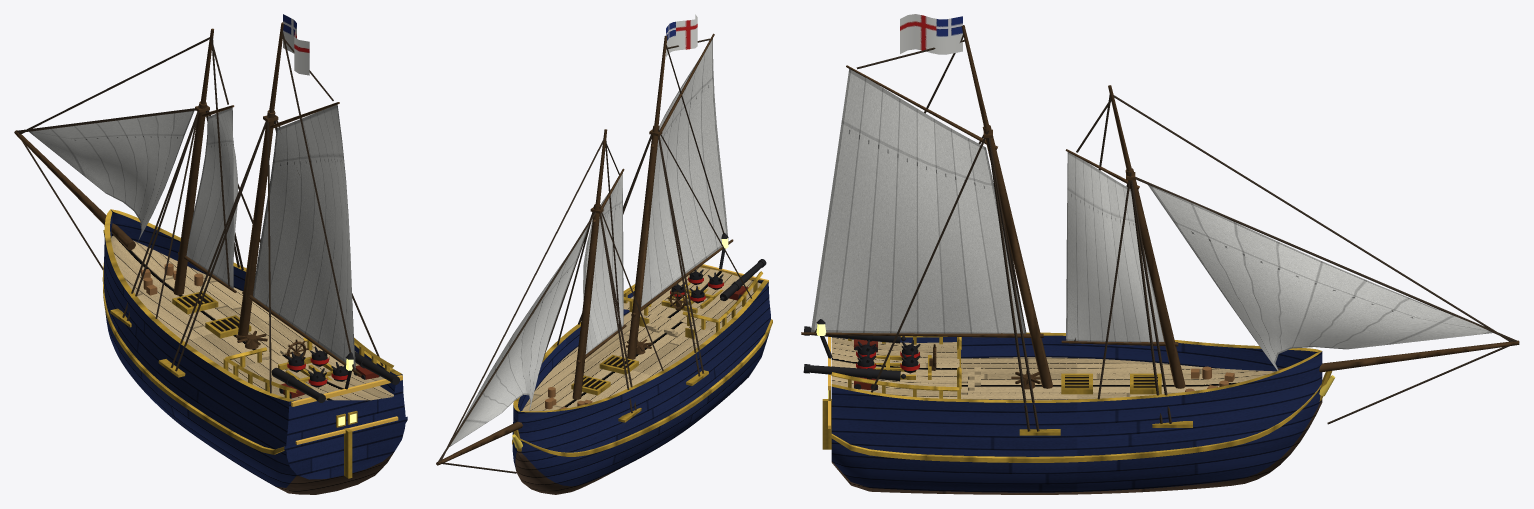
The model's file is navy_runner.glb.
3 views of the same model, side by side, from view 1: azimuth 30°, elevation 25°; view 2: azimuth 150°, elevation 25°; view 3: azimuth 270°, elevation 25° (orthographic). The views are drawn at different scales.
Parts seen in each view (by area): view 1: Hull, Sail1_0, Rigging, Jib, Sail0_0, Guns0, Flag; view 2: Hull, Sail1_0, Rigging, Jib, Sail0_0, Flag, Guns0; view 3: Hull, Sail1_0, Jib, Rigging, Sail0_0, Flag, Guns0.
Boxes of the visible parts, x1=… form: Hull: x1=102, y1=209, x2=407, y2=494; Sail1_0: x1=253, y1=104, x2=355, y2=370; Rigging: x1=14, y1=22, x2=383, y2=393; Jib: x1=29, y1=111, x2=194, y2=240; Sail0_0: x1=186, y1=107, x2=237, y2=288; Guns0: x1=271, y1=351, x2=399, y2=402; Flag: x1=283, y1=14, x2=309, y2=75; Hull: x1=512, y1=233, x2=772, y2=494; Sail1_0: x1=641, y1=38, x2=728, y2=306; Rigging: x1=436, y1=33, x2=751, y2=473; Jib: x1=449, y1=225, x2=588, y2=446; Sail0_0: x1=583, y1=173, x2=623, y2=354; Flag: x1=666, y1=14, x2=697, y2=56; Guns0: x1=720, y1=259, x2=766, y2=300; Hull: x1=816, y1=319, x2=1334, y2=494; Sail1_0: x1=811, y1=69, x2=1025, y2=333; Jib: x1=1148, y1=184, x2=1492, y2=370; Rigging: x1=801, y1=25, x2=1519, y2=431; Sail0_0: x1=1066, y1=152, x2=1164, y2=342; Flag: x1=900, y1=14, x2=962, y2=54; Guns0: x1=803, y1=326, x2=905, y2=390.
Bounding box in the file's own units: 0.7028 × 1.92 × 2.71.
Materials: 19 (8 with a texture image).
